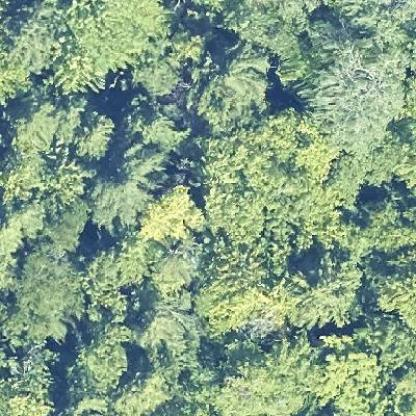tree-top: (1, 0, 171, 101), (10, 236, 84, 342), (280, 250, 369, 328), (192, 52, 272, 128), (314, 329, 379, 415), (95, 141, 158, 229), (66, 324, 131, 408), (137, 187, 204, 241), (366, 265, 415, 328)
